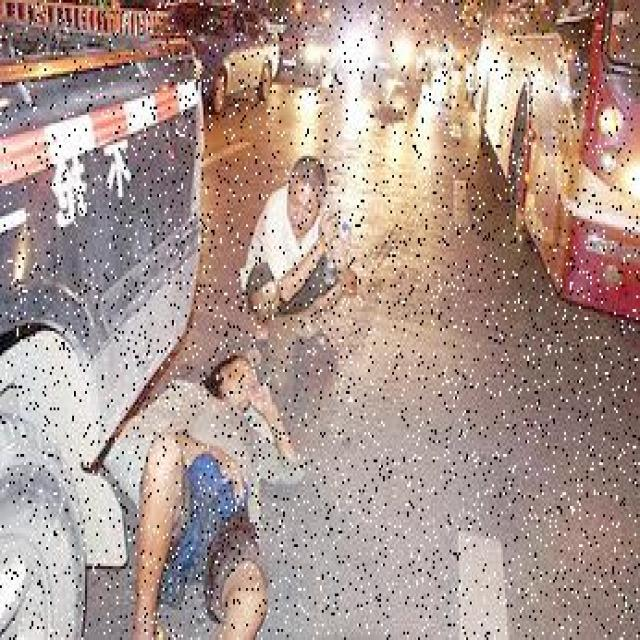fall: (124, 348, 288, 638)
